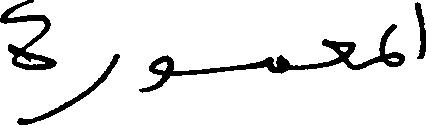X: (0, 0, 55, 124), (69, 49, 119, 111), (139, 50, 173, 97), (323, 34, 355, 74), (380, 19, 404, 71), (417, 0, 425, 63)
